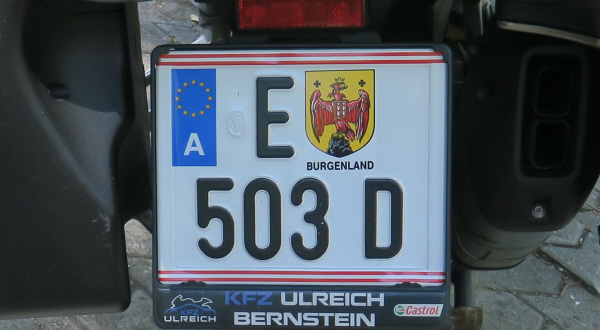license_plate: (151, 43, 450, 330)
